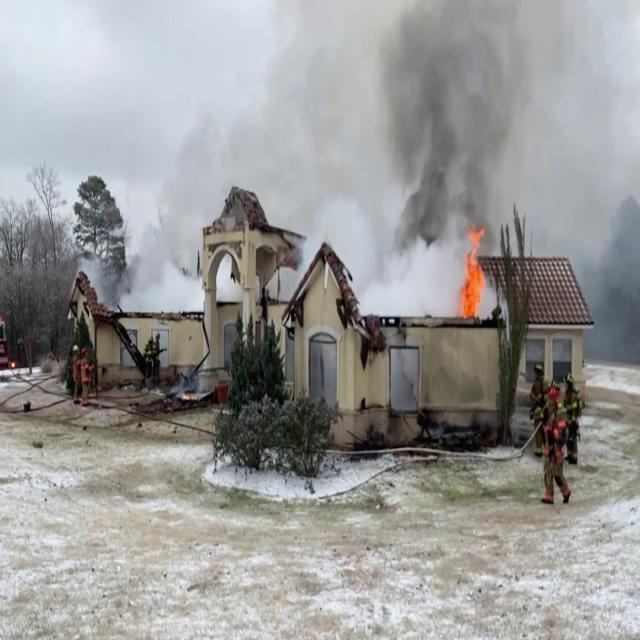Fire: (457, 227, 490, 322)
Smoke: (365, 1, 556, 268), (115, 134, 199, 318)
